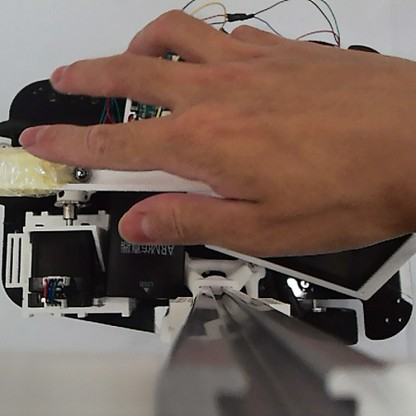ironball: (71, 161, 94, 183)
